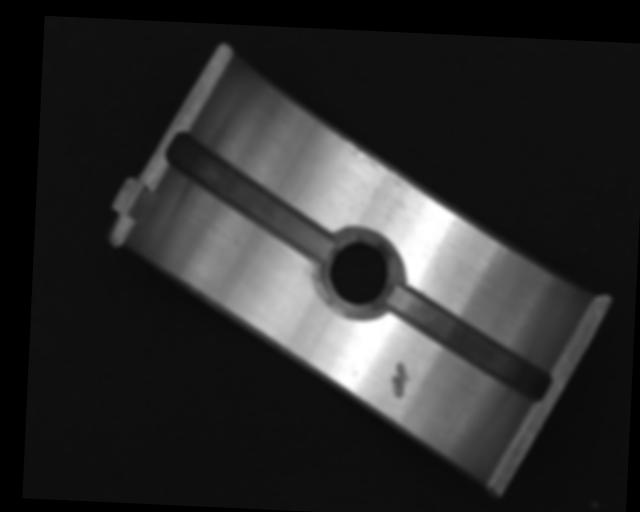bruise: (389, 361, 411, 401)
gap: (164, 133, 336, 263), (384, 286, 553, 403)
hole: (320, 230, 398, 322)
